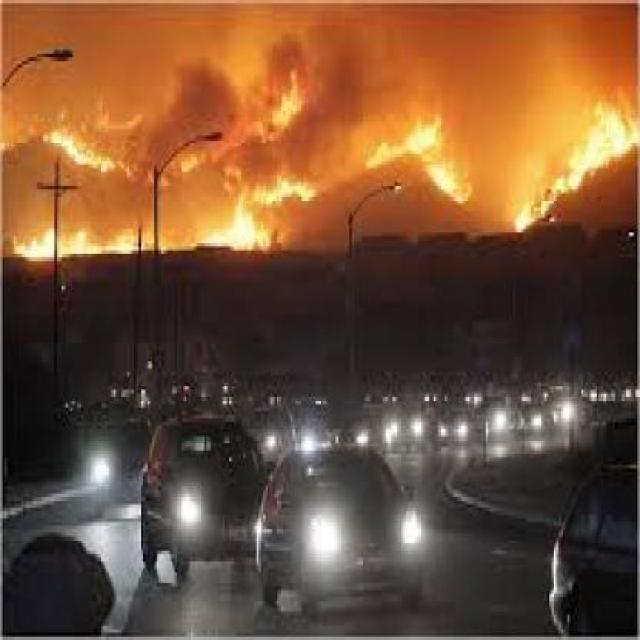Fire: (0, 110, 316, 294), (361, 86, 640, 254)
